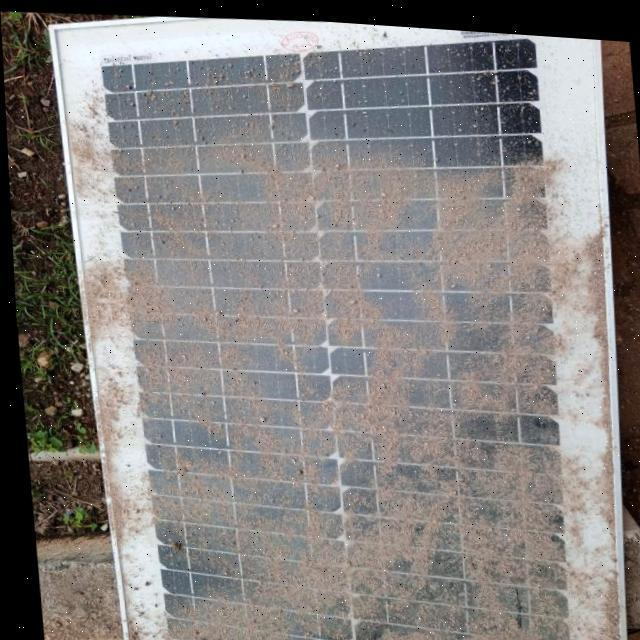Surface Contaminant: (78, 33, 606, 640)
